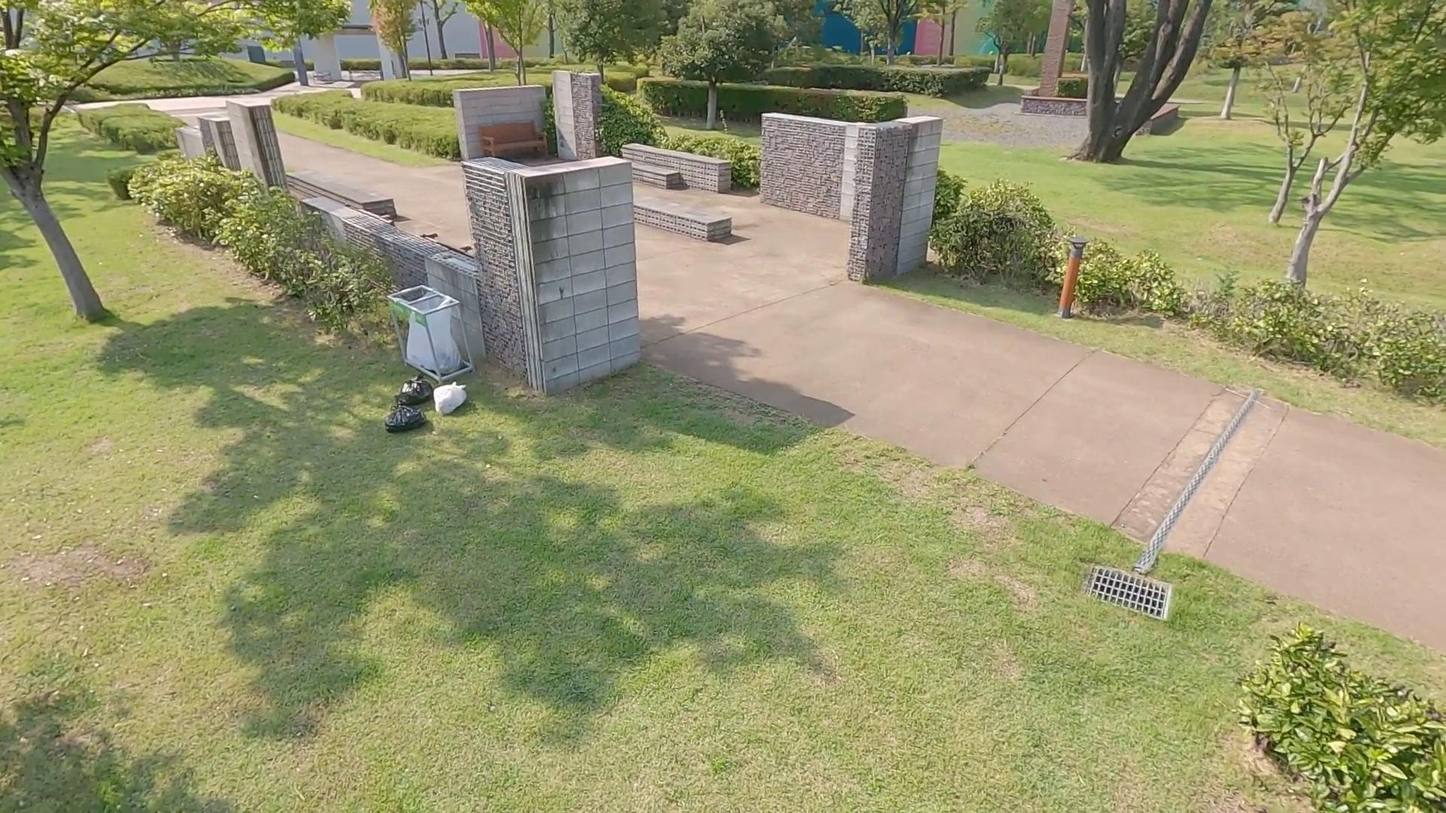trash: (381, 394, 432, 438), (434, 380, 470, 417), (393, 371, 430, 405)
